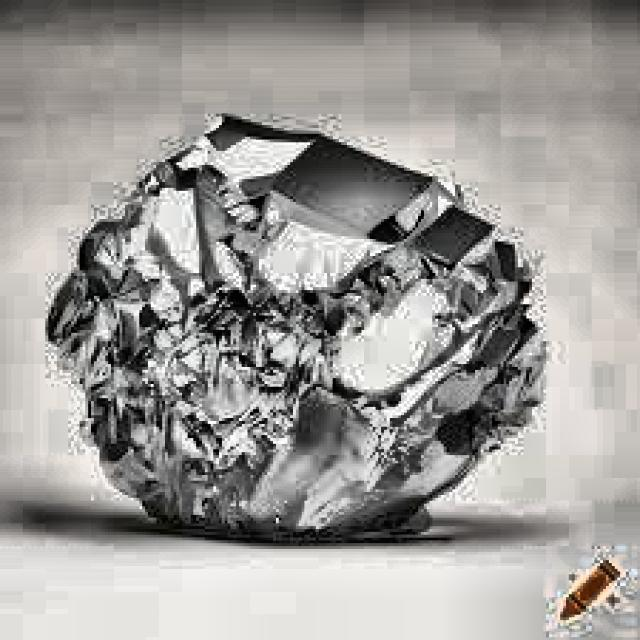Foil: (46, 101, 578, 565)
